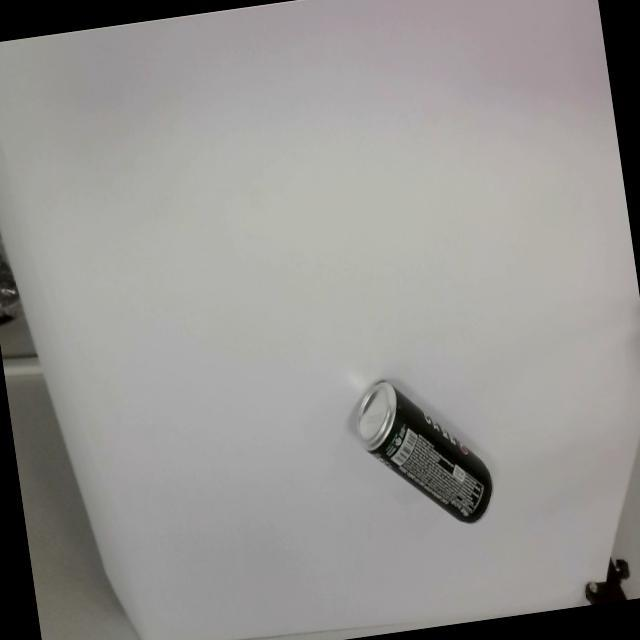debris: (345, 366, 496, 540)
